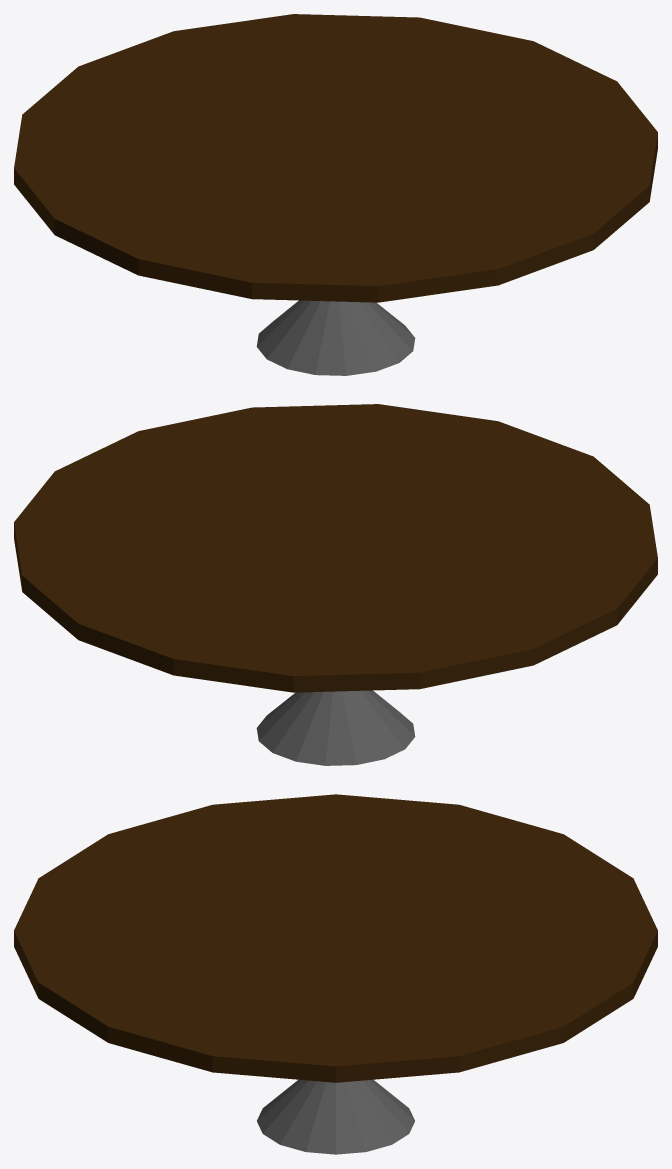
Rendered from TableLowLarge.fbx.
3 views of the same model, one above another, from view 1: azimuth 30°, elevation 25°; view 2: azimuth 150°, elevation 25°; view 3: azimuth 270°, elevation 25° (orthographic).
Visible parts, largest first — view 1: TableLowLarge; view 2: TableLowLarge; view 3: TableLowLarge.
Boxes of the visible parts, bbox=[...] form: TableLowLarge: bbox=[14, 14, 657, 375]; TableLowLarge: bbox=[14, 404, 657, 765]; TableLowLarge: bbox=[14, 794, 657, 1154].
Size of the model in its own units: 154 by 50.21 by 154.
